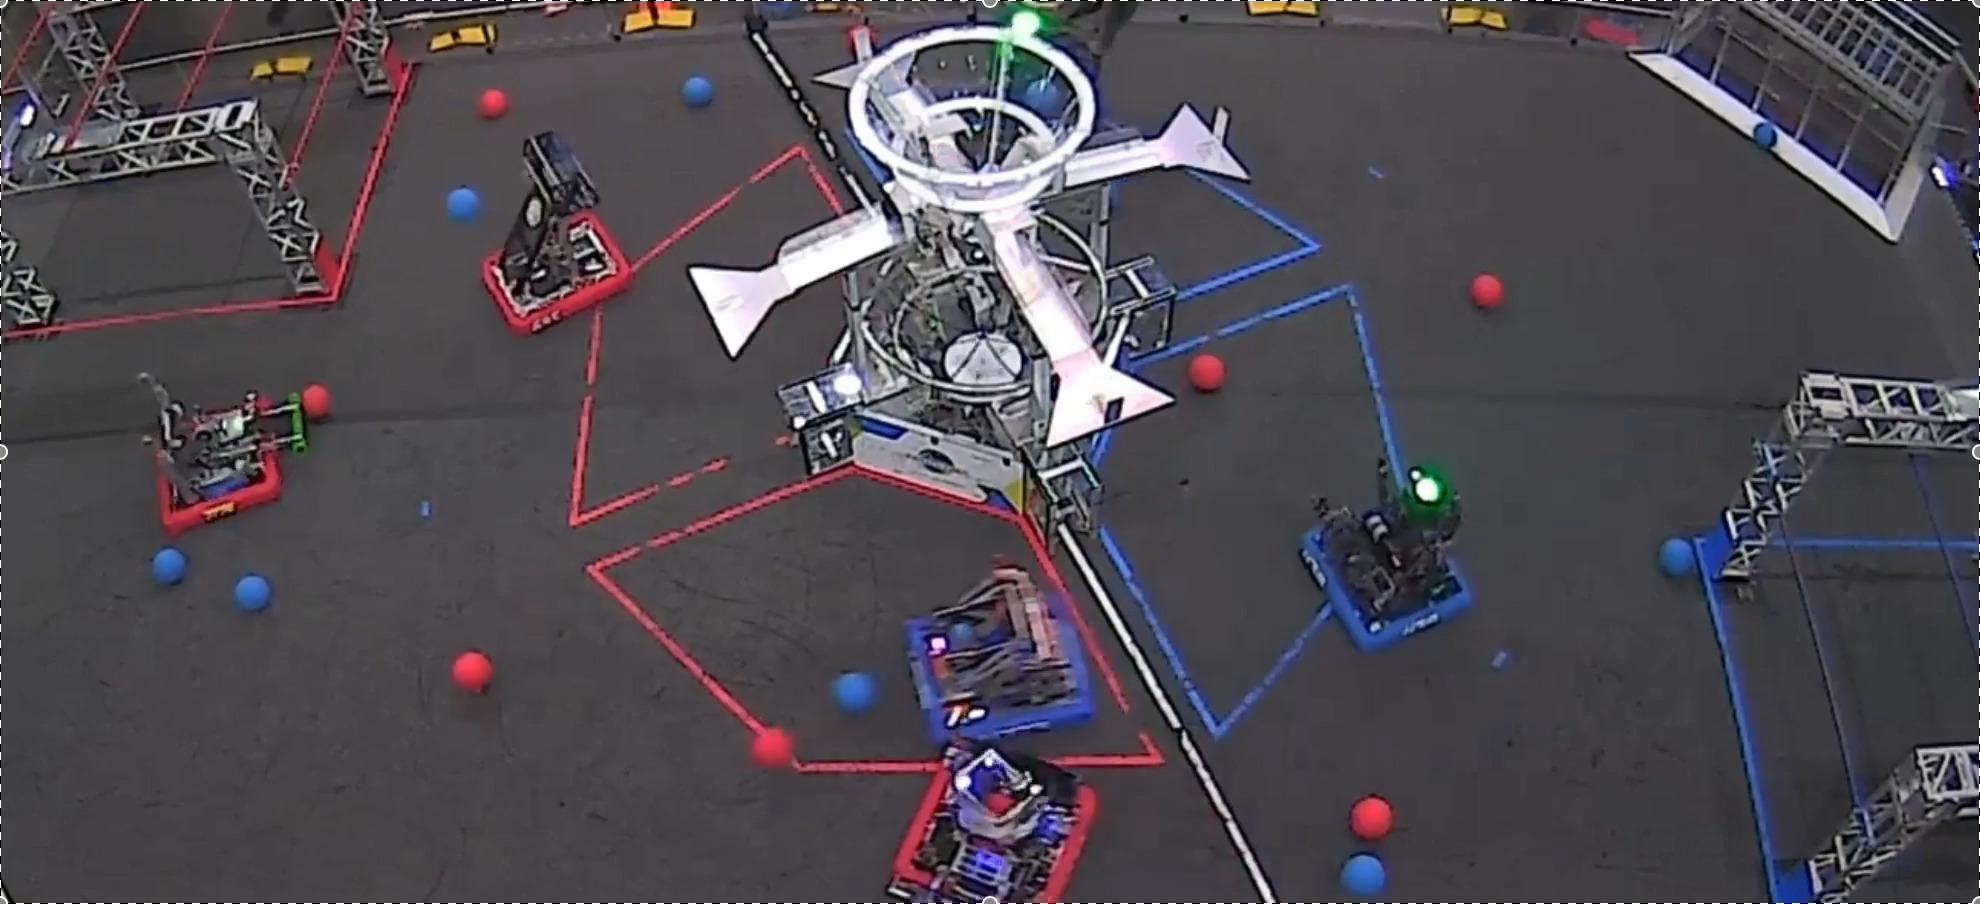Robots: (907, 562, 1094, 744), (889, 741, 1096, 903), (1299, 460, 1471, 649), (482, 133, 631, 335), (138, 372, 307, 535), (986, 0, 1107, 129)
